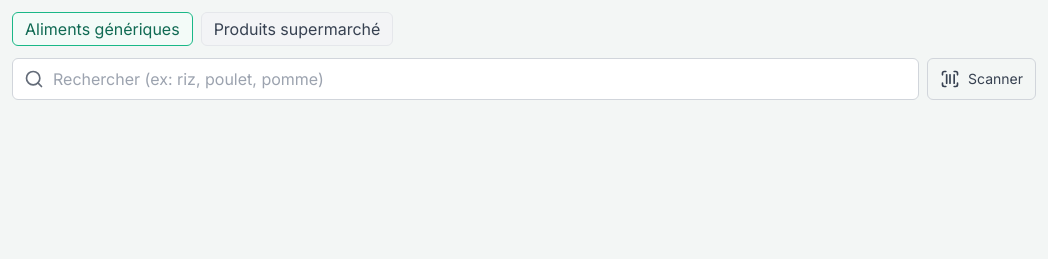
FoodSearch › mes aliments et contenu au repos › propose mes aliments en premier dans les résultats
Later steps or results of the test are not shown.
Type "pomme" into the dropdown named "Recherche d'aliment" at (466, 79), box [12,58,919,100]
Wait 400 ms
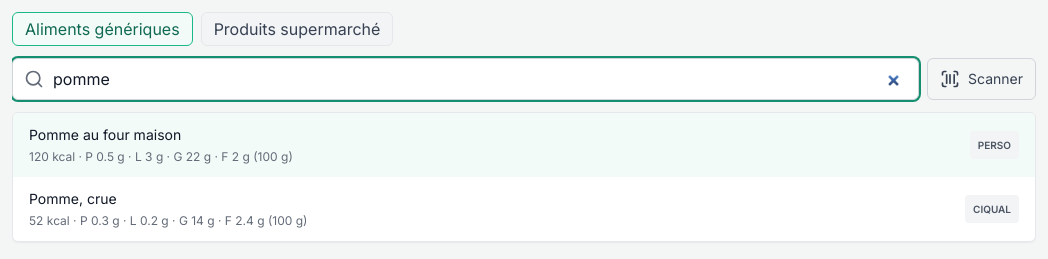
Expected: the option that starts with "Pomme au four maison" is shown, [13,113,1035,177]
Expected: the option that starts with "Pomme au four maison" shows "PERSO", [13,113,1035,177]
Expected: the option that starts with "Pomme, crue" is shown, [13,177,1035,241]
